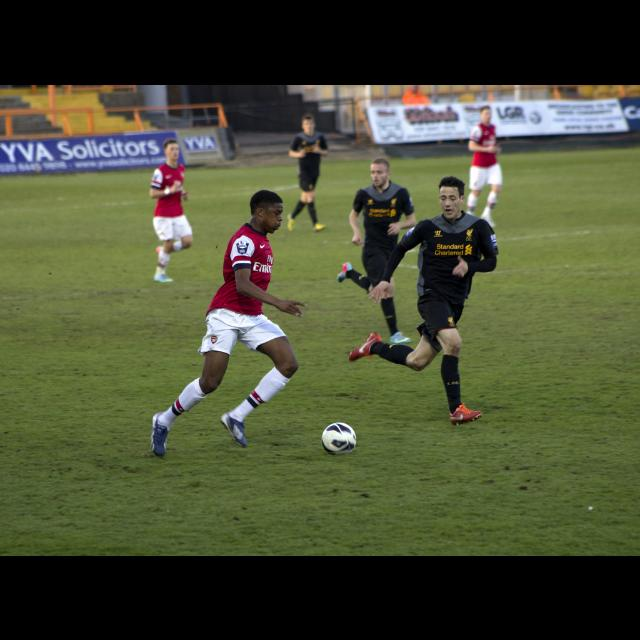Football: (322, 420, 354, 456)
